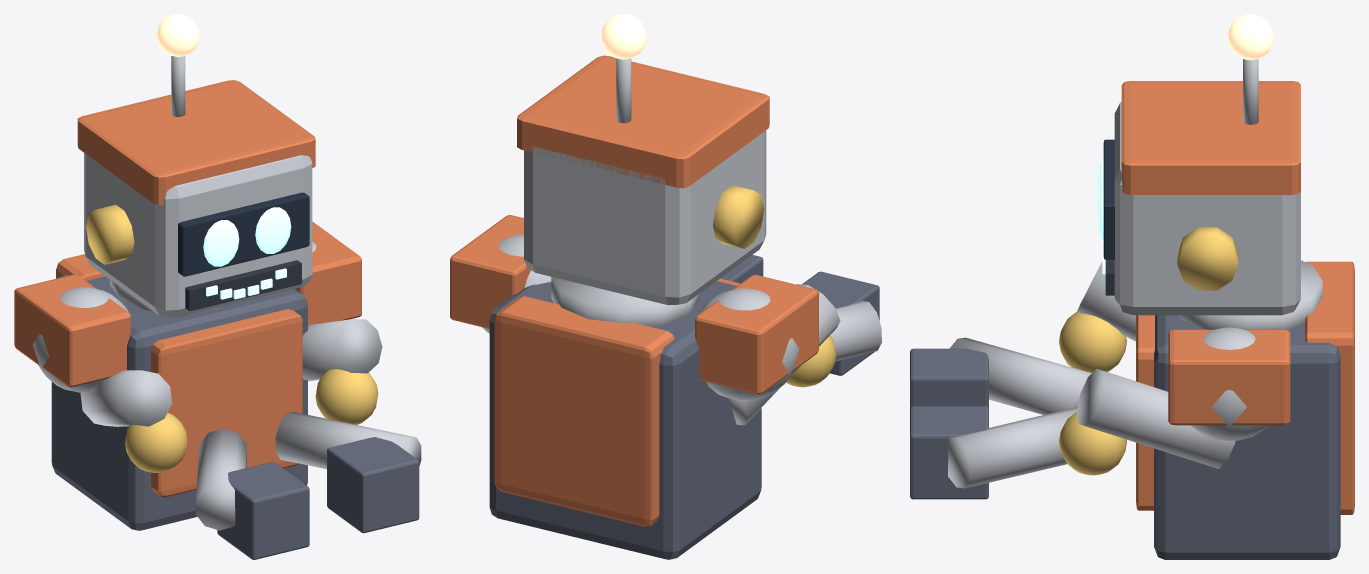
Rendered from driver_robot.glb.
3 views of the same model, side by side, from view 1: azimuth 30°, elevation 25°; view 2: azimuth 150°, elevation 25°; view 3: azimuth 270°, elevation 25° (orthographic). The views are drawn at different scales.
Visible parts, largest first — view 1: D_Chest, D_HelmTop, D_Head, D_Torso, D_Pad, D_Glove.001, D_Glove, D_Visor, D_Pad.001, D_Upper, D_Lower.001, D_Upper.001 (+12 smaller); view 2: D_Back, D_Head, D_Torso, D_HelmTop, D_Pad, D_Pad.001, D_Neck, D_Ear, D_Lower, D_Glove, D_Shoulder, D_Bulb (+5 smaller); view 3: D_Torso, D_Head, D_HelmTop, D_Pad.001, D_Upper.001, D_Lower.001, D_Back, D_Glove.001, D_Lower, D_Glove, D_Ear.001, D_Elbow (+8 smaller).
Boxes of the visible parts, left/top/right/bottom form: D_Chest: left=151, top=309, right=302, bottom=497; D_HelmTop: left=77, top=80, right=315, bottom=204; D_Head: left=84, top=153, right=312, bottom=317; D_Torso: left=51, top=274, right=307, bottom=530; D_Pad: left=14, top=274, right=130, bottom=387; D_Glove.001: left=327, top=437, right=419, bottom=533; D_Glove: left=217, top=461, right=309, bottom=559; D_Visor: left=178, top=192, right=309, bottom=276; D_Pad.001: left=295, top=221, right=361, bottom=325; D_Upper: left=80, top=370, right=172, bottom=426; D_Lower.001: left=275, top=412, right=421, bottom=469; D_Upper.001: left=302, top=319, right=382, bottom=381; D_Back: left=494, top=296, right=674, bottom=526; D_Head: left=524, top=130, right=766, bottom=305; D_Torso: left=489, top=281, right=761, bottom=559; D_HelmTop: left=517, top=55, right=769, bottom=188; D_Pad: left=695, top=274, right=818, bottom=394; D_Pad.001: left=450, top=215, right=530, bottom=328; D_Neck: left=551, top=277, right=699, bottom=326; D_Ear: left=713, top=185, right=764, bottom=248; D_Lower: left=830, top=301, right=881, bottom=361; D_Glove: left=802, top=271, right=879, bottom=375; D_Shoulder: left=697, top=288, right=799, bottom=400; D_Bulb: left=601, top=14, right=646, bottom=59; D_Torso: left=1154, top=315, right=1340, bottom=559; D_Head: left=1114, top=101, right=1300, bottom=315; D_HelmTop: left=1121, top=81, right=1300, bottom=194; D_Pad.001: left=1168, top=329, right=1290, bottom=425; D_Upper.001: left=1076, top=368, right=1235, bottom=468; D_Lower.001: left=948, top=407, right=1077, bottom=488; D_Back: left=1305, top=261, right=1354, bottom=514; D_Glove.001: left=910, top=406, right=988, bottom=499; D_Lower: left=950, top=337, right=1091, bottom=414; D_Glove: left=910, top=348, right=988, bottom=408; D_Ear.001: left=1177, top=227, right=1238, bottom=290; D_Elbow: left=1059, top=311, right=1126, bottom=372.
Size of the model in its own units: 1.04 by 1.54 by 1.24.
